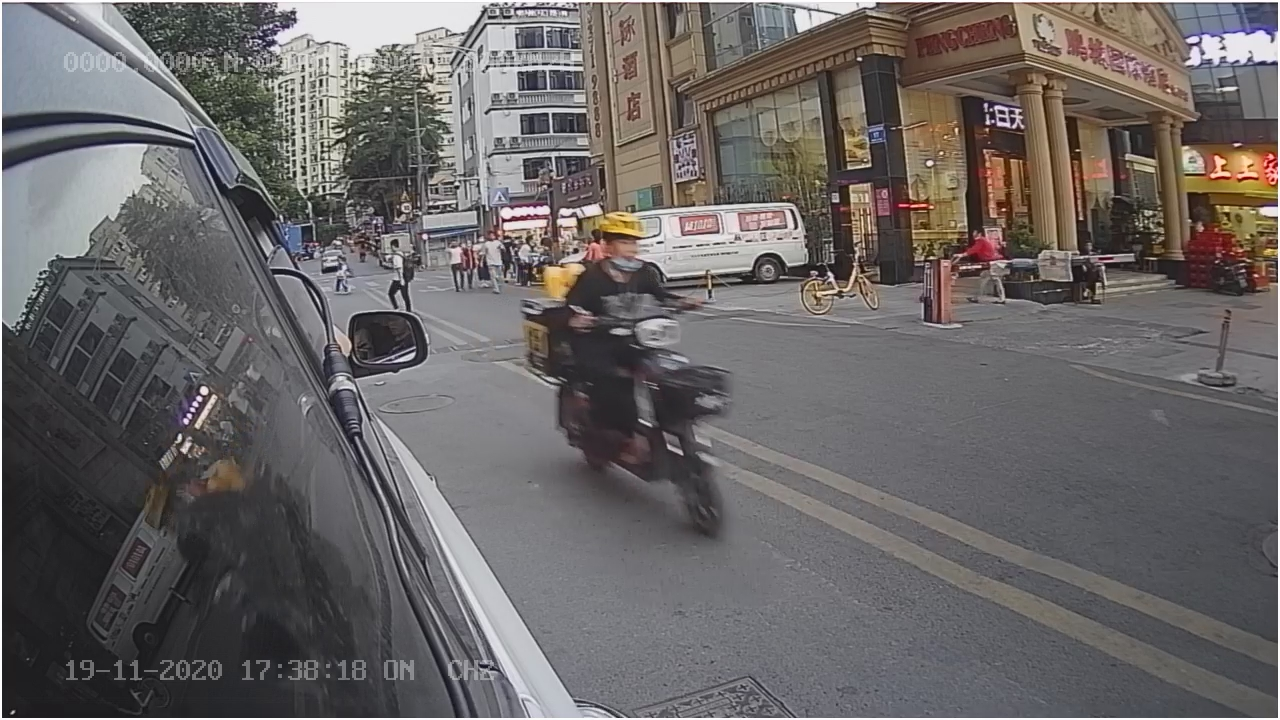person: (566, 212, 689, 318)
